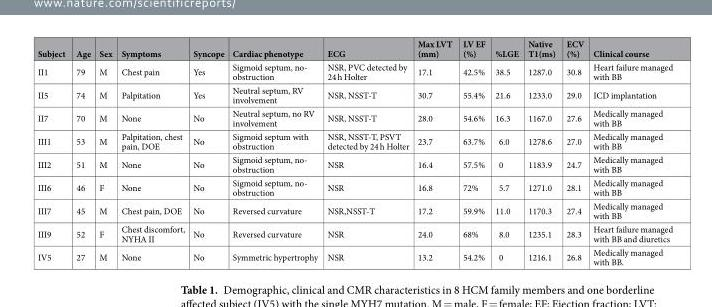table: (36, 37, 672, 267)
table column: (227, 37, 321, 267), (321, 37, 412, 267), (587, 37, 672, 267), (116, 37, 188, 267), (412, 37, 456, 267), (188, 37, 227, 267), (522, 37, 560, 267), (36, 37, 70, 267), (456, 37, 489, 267), (489, 37, 522, 267), (560, 37, 587, 267), (70, 37, 94, 267), (94, 37, 116, 267)
table column header: (36, 37, 672, 59)
table row: (36, 59, 672, 83), (36, 221, 672, 245), (36, 83, 672, 106), (36, 106, 672, 129), (36, 129, 672, 152), (36, 152, 672, 175), (36, 175, 672, 198), (36, 198, 672, 221), (36, 37, 672, 59), (36, 245, 672, 267)
